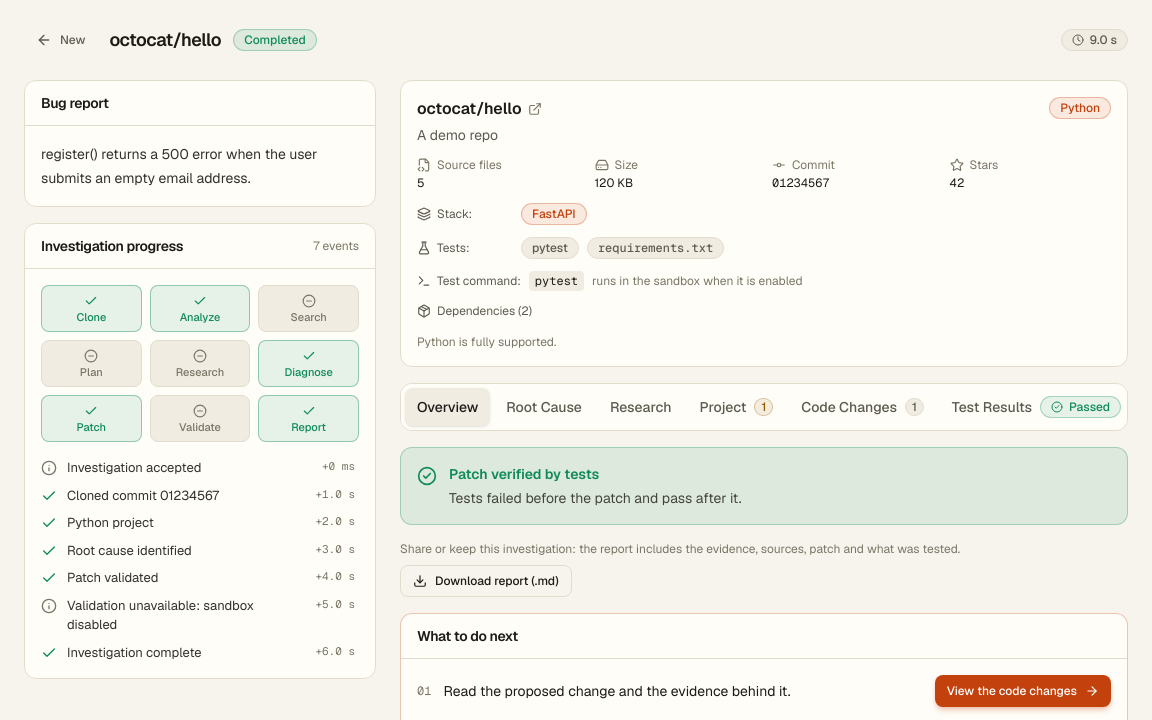
Test case: InvestigationView states › completed + validated: shows real before/after runs
The width and height of the screenshot is (1152, 720).
Expected: the text "Patch verified by tests" is shown, [449, 465, 599, 483]
Click the tab "Test Results Passed": coordinates (1036, 407) [940, 388, 1133, 426]
(page scrolled)
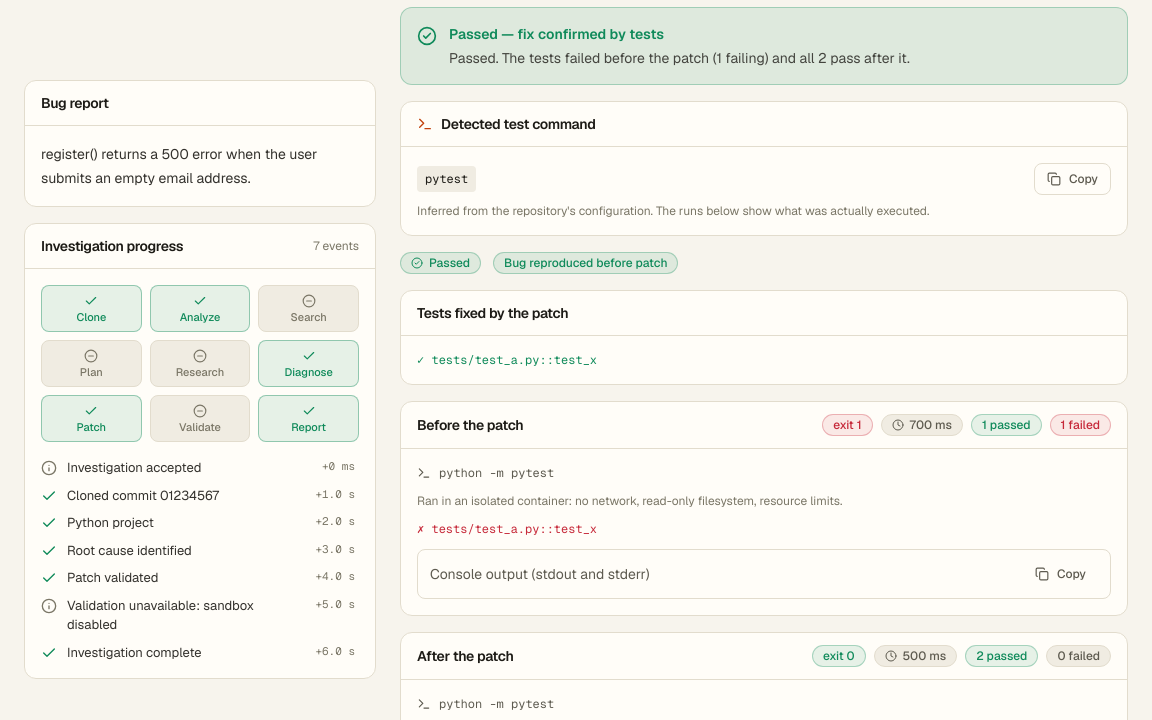
Now the heading "Before the patch" is shown, box [417, 415, 523, 435]
Now the heading "After the patch" is shown, box [417, 646, 514, 666]
Now the text "Bug reproduced before patch" is shown, box [493, 252, 678, 274]
